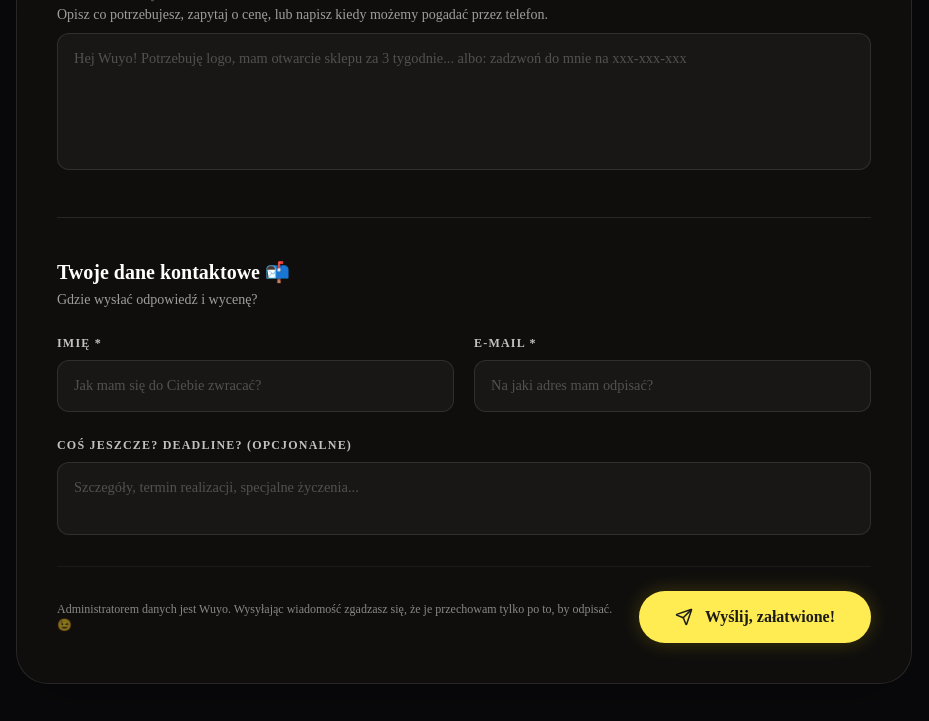
ContactBrief › TC-3 pokazuje błąd przy nieprawidłowym formacie e-mail
(page scrolled)
Type "Jan" into the field labelled "Imię *".
click(256, 386); type("Jan")  # box [57,360,454,412]
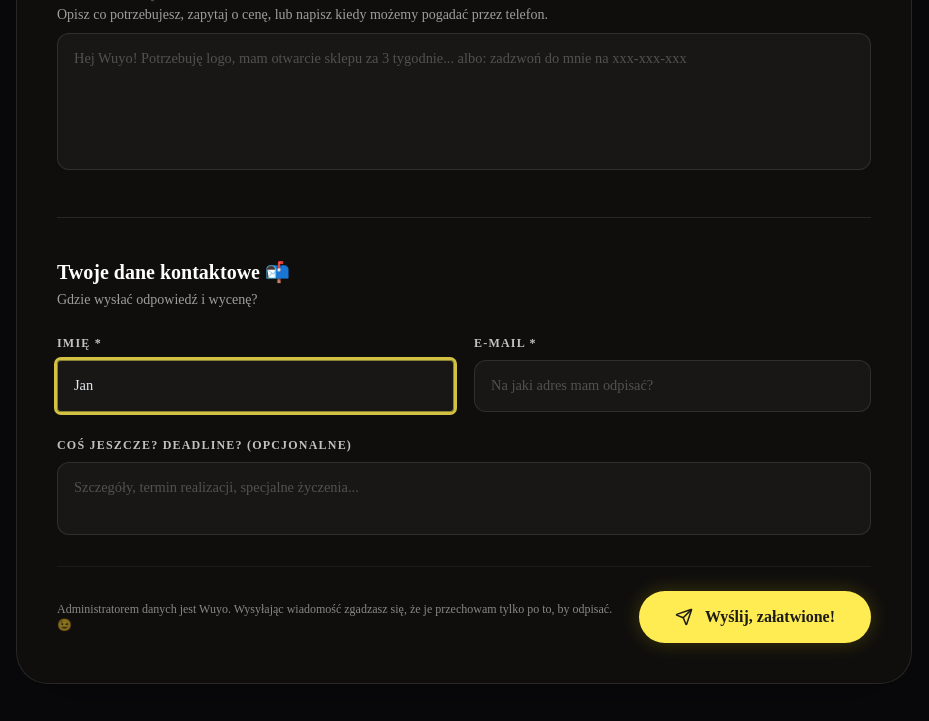
Type "to-nie-email" into the field labelled "E-mail *".
click(672, 386); type("to-nie-email")  # box [474,360,871,412]
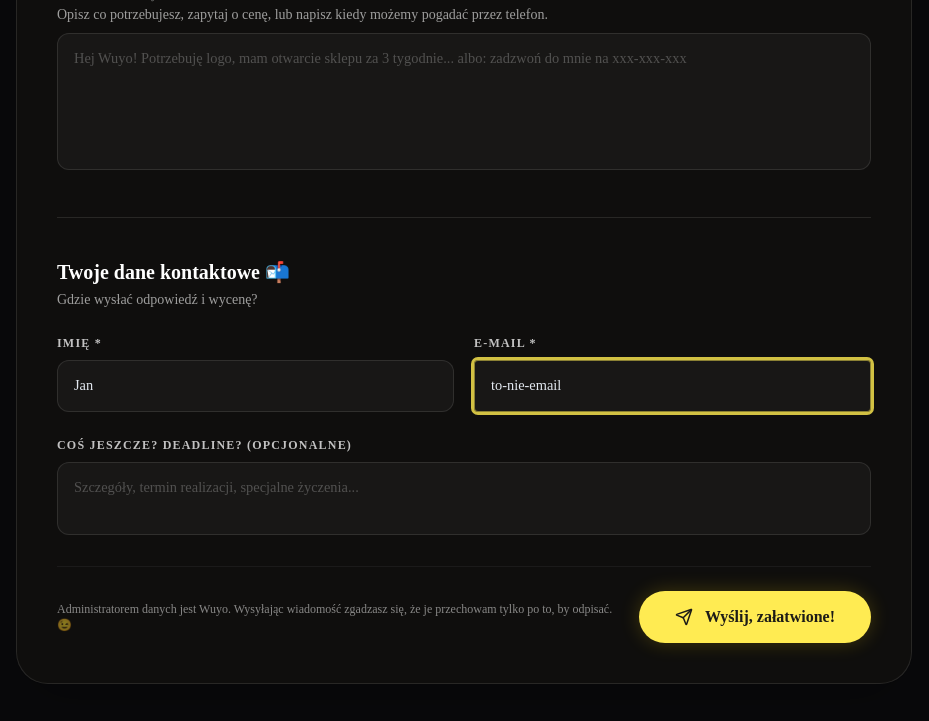
Type "Potrzebuję logo" into the text box with placeholder "Hej Wuyo".
click(464, 101); type("Potrzebuję logo")  # box [57,32,871,170]
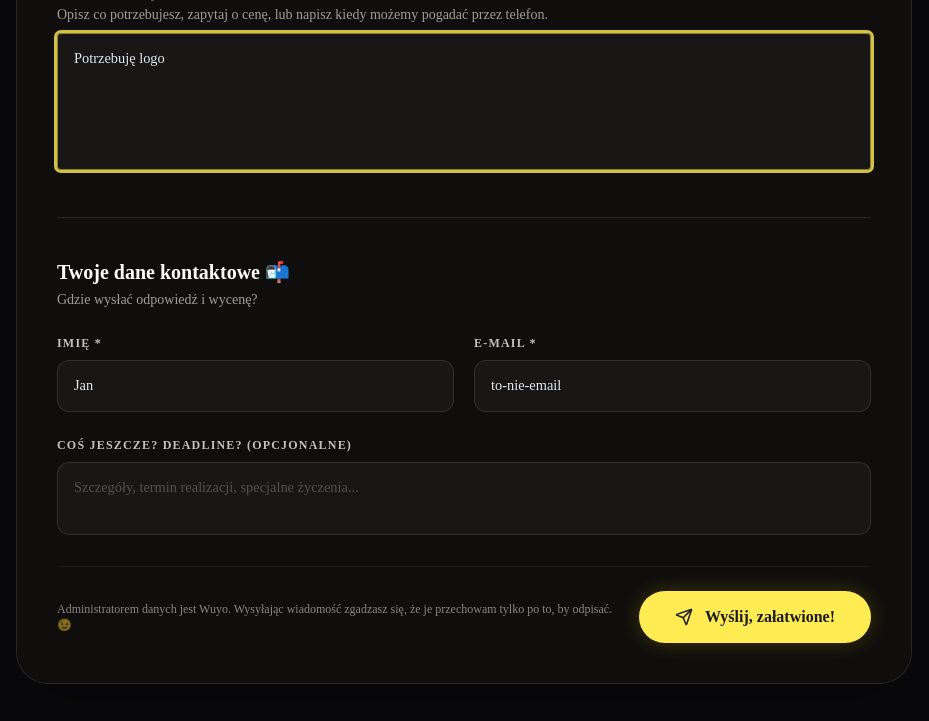
Click the button "Wyślij, załatwione!".
click(755, 617)  # box [639,591,871,643]
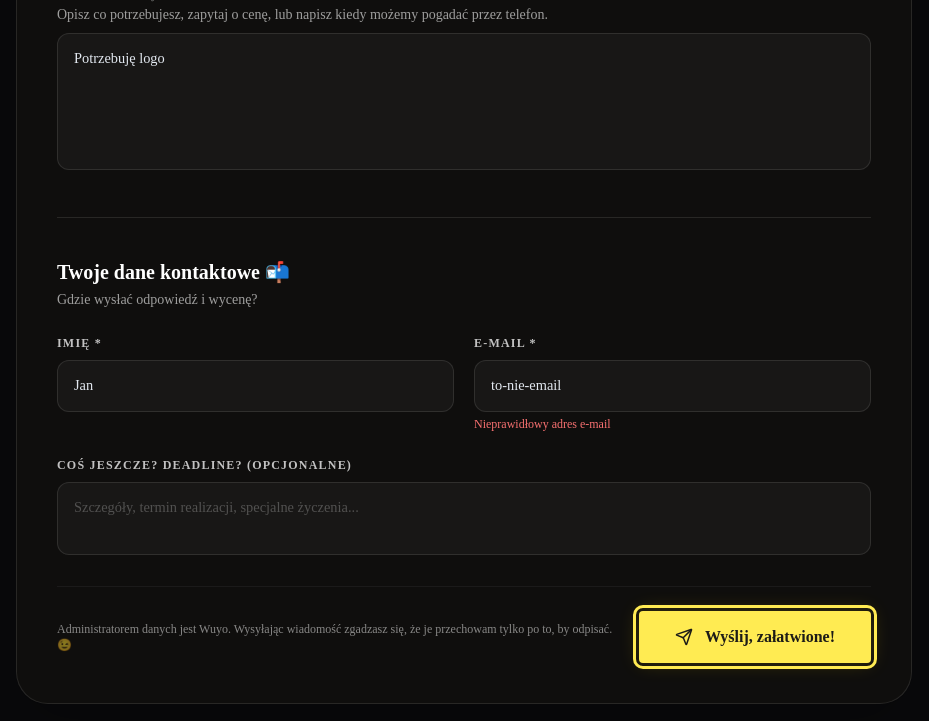
Now the text "Nieprawidłowy adres e-mail" is shown, box [474,417,611,431]
